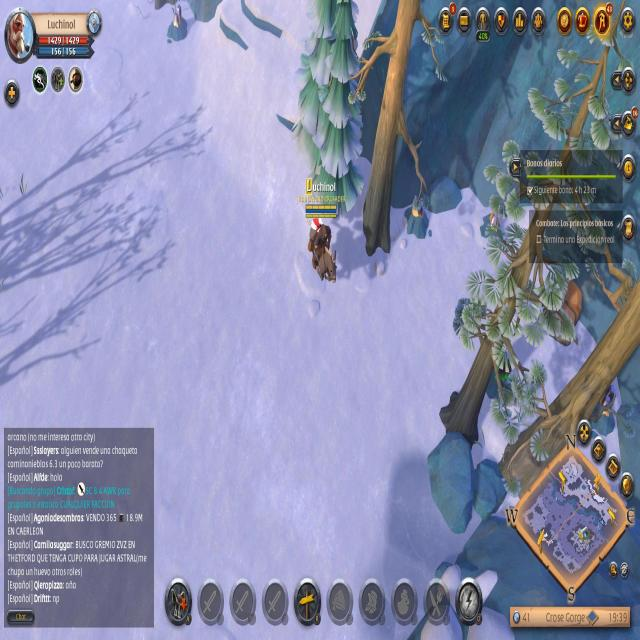piedra_cobre: (402, 195, 437, 248), (162, 2, 192, 48), (478, 196, 506, 240)
